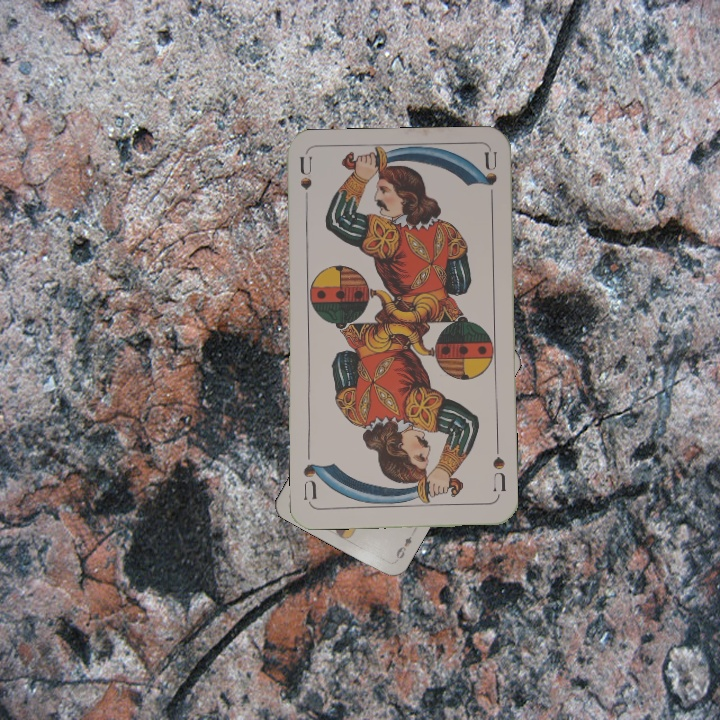E9: (392, 527, 417, 562)
SU: (295, 154, 315, 213), (488, 441, 509, 495)
